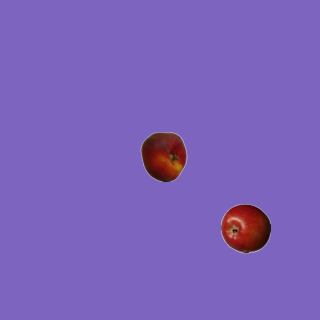Apple Braeburn: (220, 203, 270, 253)
Nectarine Flat: (138, 131, 188, 181)
